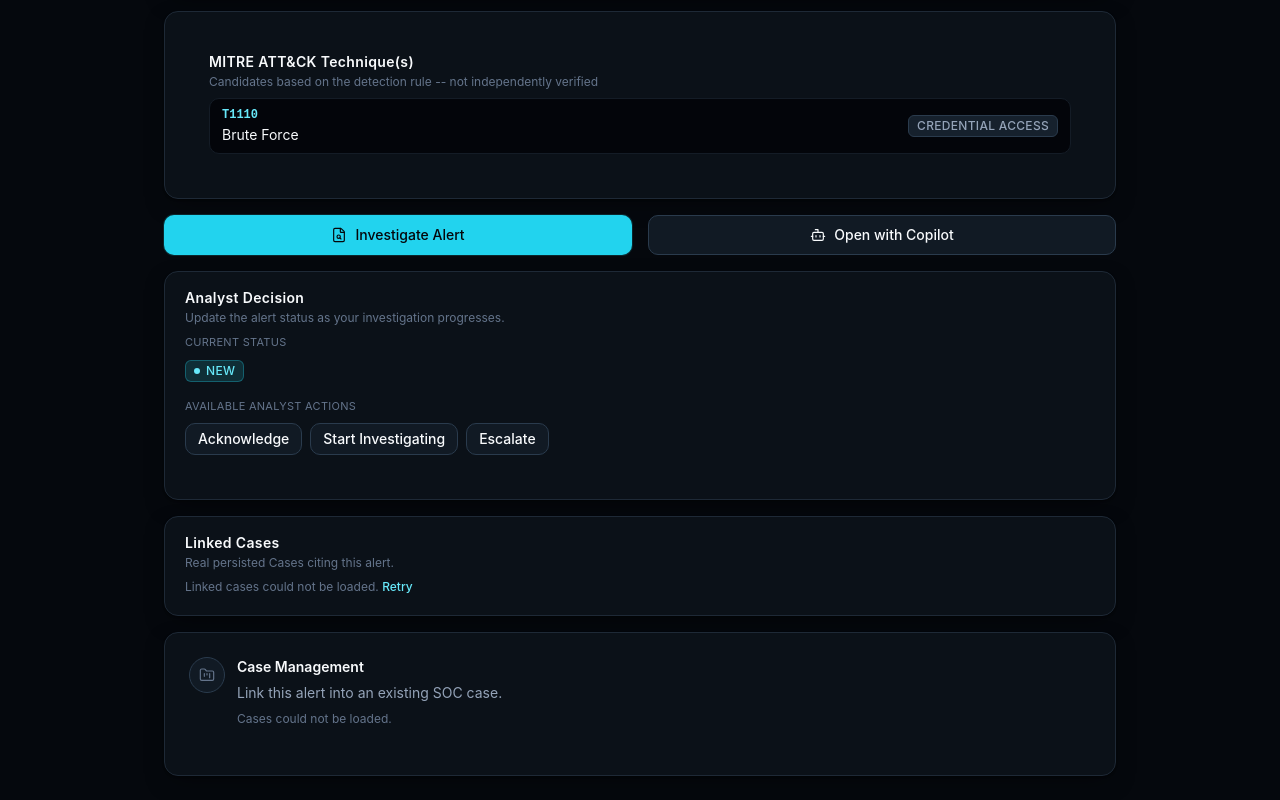
Step 12L: Alert Triage Workflow & Analyst Decision Center › 7. a safe error message is rendered, never a raw backend exception
(page scrolled)
Click the button "Acknowledge": click(244, 438) x1=185 y1=422 x2=302 y2=454
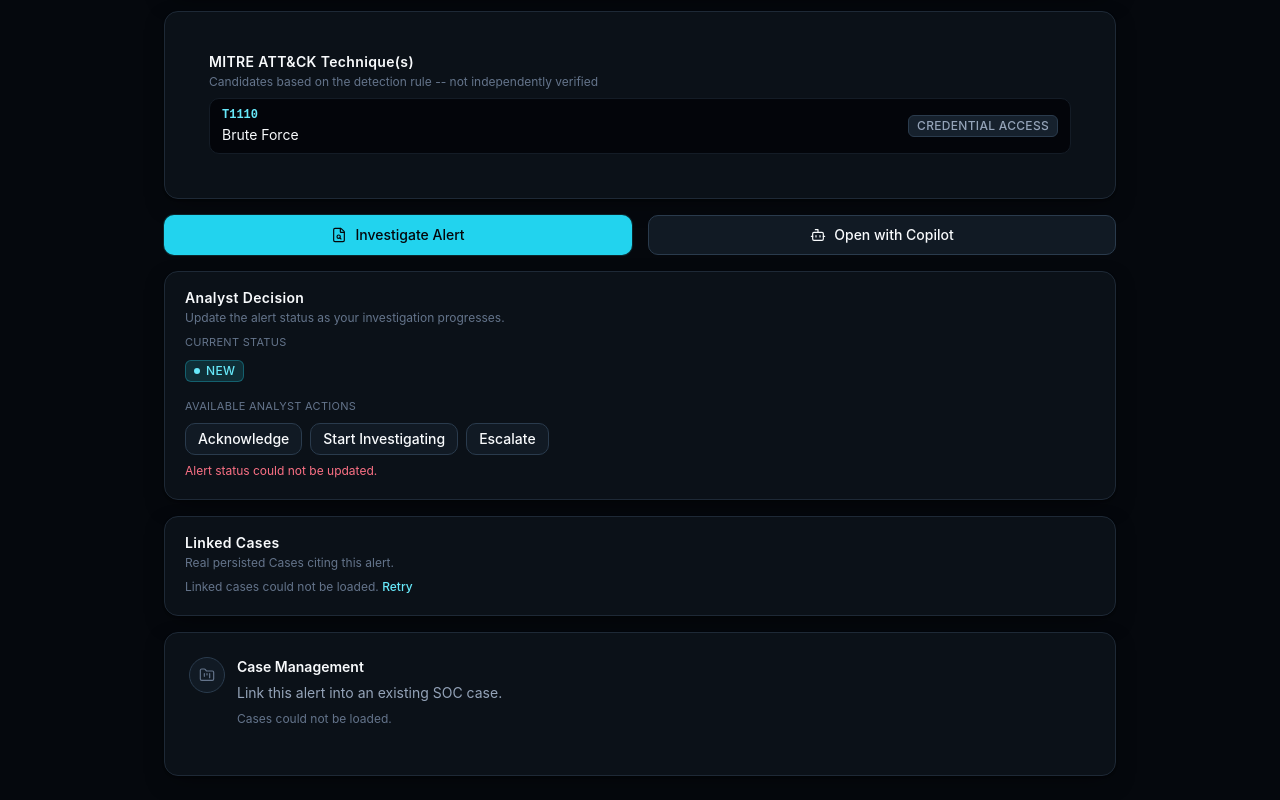
Expected: the text "Alert status could not be updated." is shown, x1=185 y1=462 x2=377 y2=478
